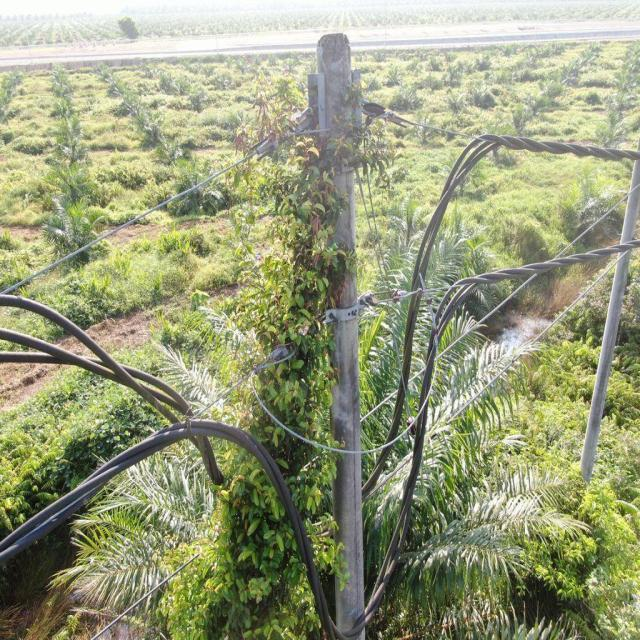critical vegetation: (170, 73, 384, 640)
